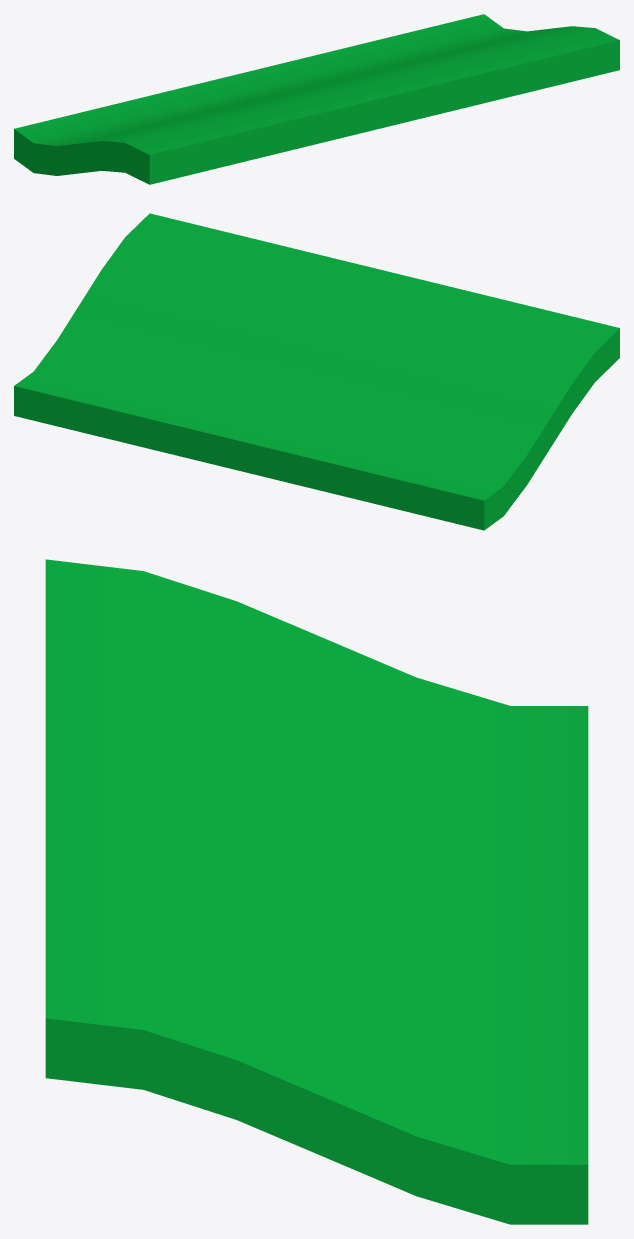
Rendered from basic_low_slope.gltf.
3 renders of one model, top to bottom at view 1: azimuth 30°, elevation 25°; view 2: azimuth 150°, elevation 25°; view 3: azimuth 270°, elevation 25°, orthographic. The views are drawn at different scales.
Parts seen in each view (by area): view 1: basic_low_slope_glb; view 2: basic_low_slope_glb; view 3: basic_low_slope_glb.
Part boxes in pixels (left/top/right/bottom): basic_low_slope_glb: left=14, top=14, right=619, bottom=184; basic_low_slope_glb: left=14, top=213, right=619, bottom=530; basic_low_slope_glb: left=45, top=559, right=588, bottom=1224.
Size of what is drawn, in the model's own units: 4 by 0.8385 by 2.
Materials: 1 (1 with a texture image).
